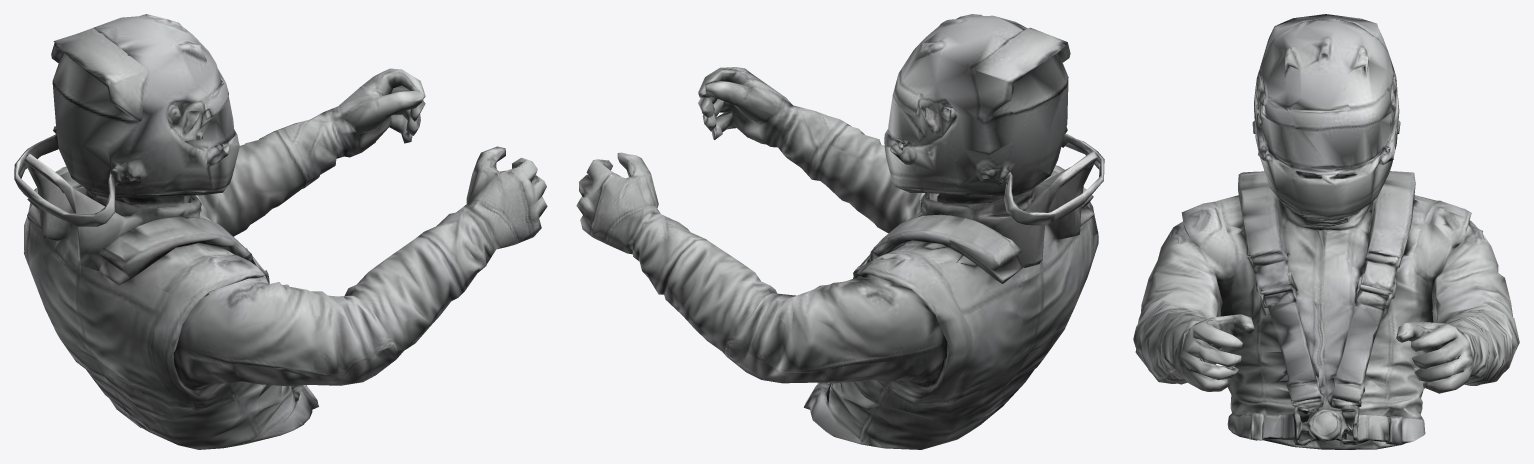
Rendered from piloto_bajo.glb.
The picture shows the model from 3 angles, left to right: view 1: azimuth 30°, elevation 25°; view 2: azimuth 150°, elevation 25°; view 3: azimuth 270°, elevation 25°; orthographic projection. The views are drawn at different scales.
Visible parts, largest first — view 1: tripo_node_bfbf7994-805a-447c-85c9-1ab9fce698bd; view 2: tripo_node_bfbf7994-805a-447c-85c9-1ab9fce698bd; view 3: tripo_node_bfbf7994-805a-447c-85c9-1ab9fce698bd.
Boxes of the visible parts, bbox=[...] form: tripo_node_bfbf7994-805a-447c-85c9-1ab9fce698bd: bbox=[14, 14, 547, 449]; tripo_node_bfbf7994-805a-447c-85c9-1ab9fce698bd: bbox=[576, 14, 1104, 449]; tripo_node_bfbf7994-805a-447c-85c9-1ab9fce698bd: bbox=[1133, 14, 1519, 449].
Bounding box in the file's own units: 0.8025 × 0.6986 × 0.6647.
1 material, 1 textured.
